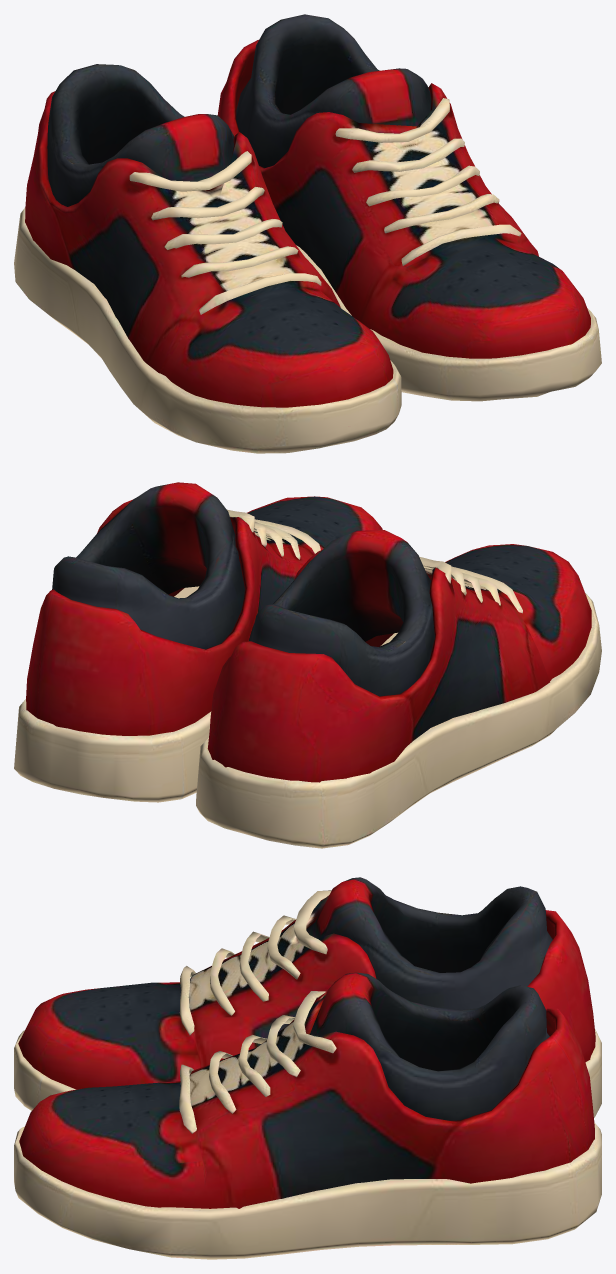
File: street-feet.glb
The picture shows the model from 3 angles, top to bottom: view 1: azimuth 30°, elevation 25°; view 2: azimuth 150°, elevation 25°; view 3: azimuth 270°, elevation 25°; orthographic projection.
Parts seen in each view (by area): view 1: street-feet; view 2: street-feet; view 3: street-feet.
Part boxes in pixels (left/top/right/bottom): street-feet: left=14, top=14, right=601, bottom=453; street-feet: left=14, top=482, right=601, bottom=848; street-feet: left=14, top=877, right=601, bottom=1259.
Size of the model in its own units: 0.3218 by 0.1726 by 0.4.
1 material, 1 textured.
